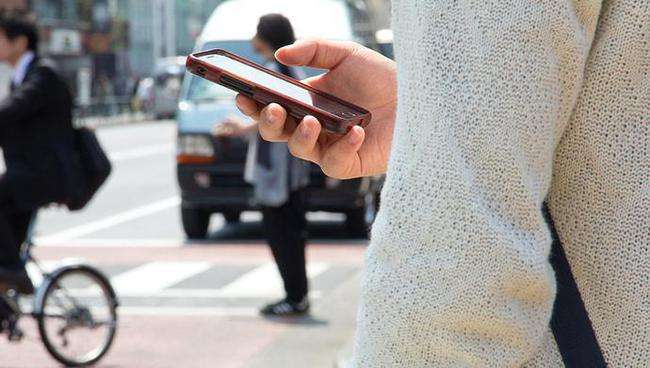phone: (167, 15, 401, 177)
